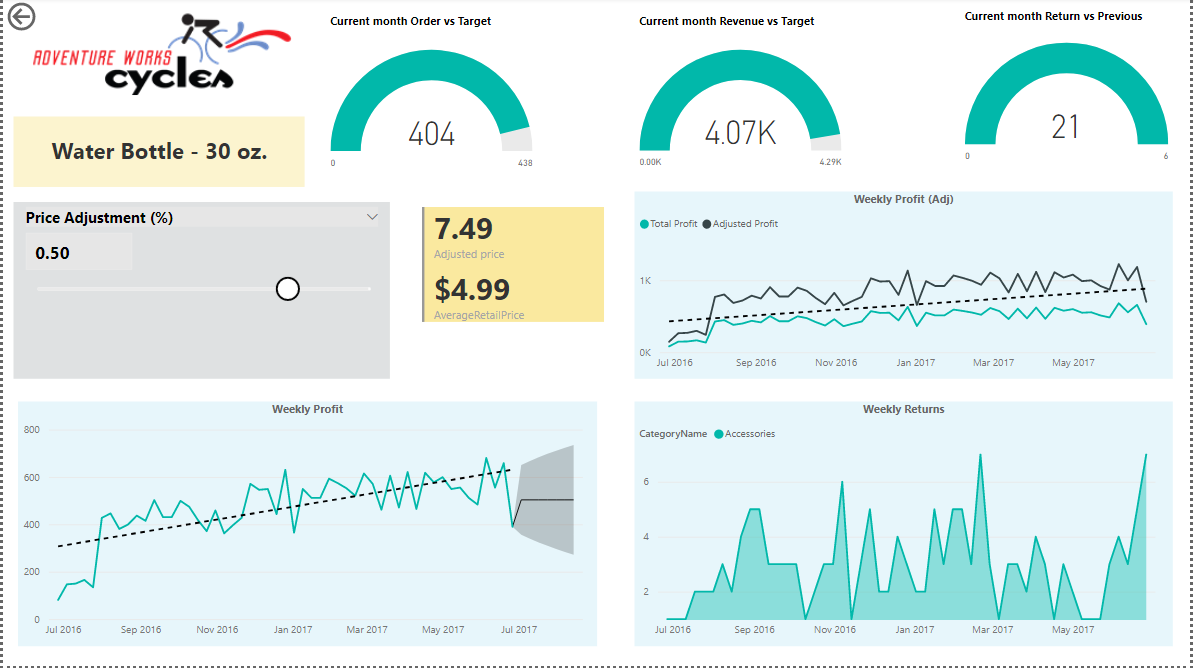

This screenshot's page, from the dashboard's own definition file:
{"tool":"powerbi","page":{"name":"Product detail","canvas":[1280,720],"ordinal":2},"visuals":[{"type":"image","box":[11.4,11.4,324.3,98.6],"z":0},{"type":"lineChart","title":"Weekly Profit","fields":{"Category":["AW_Calendar_Lookup.Start of Week"],"Y":["AW_SalesFiles.Total Profit"]},"box":[16.2,435.2,624.5,263.7],"z":1000},{"type":"stackedAreaChart","title":"Weekly Returns","fields":{"Category":["AW_Calendar_Lookup.Start of Week"],"Y":["AW_Returns.Total Returns"],"Series":["AW_Product_Categories_Lookup.CategoryName"]},"box":[681.2,435.2,580.9,263.7],"z":2000},{"type":"gauge","title":"Current month Order vs Target","fields":{"Y":["AW_SalesFiles.Total orders"],"MaxValue":["AW_SalesFiles.Order Target"]},"box":[348.6,15.7,228.6,192.9],"z":3000},{"type":"gauge","title":"Current month Revenue vs Target","fields":{"Y":["AW_SalesFiles.Total Revenue"],"MaxValue":["AW_SalesFiles.Target Revenue"]},"box":[681.2,16.2,228.1,192.5],"z":4000},{"type":"gauge","title":"Current month Return vs Previous","fields":{"Y":["AW_Returns.Total Returns"],"MaxValue":["AW_Returns.Prev Month Returns"]},"box":[1032.3,11.3,229.8,187.7],"z":5000},{"type":"card","fields":{"Values":["Min(AW_Products_Lookup.ProductName)"]},"box":[11.4,128.6,314.3,75.7],"z":6000},{"type":"actionButton","box":[0,0,100,40],"z":7000},{"type":"slicer","fields":{"Values":["Price Adjustment (%) 2.Price Adjustment (%)"]},"box":[11.3,220,406.1,190.9],"z":8000},{"type":"multiRowCard","fields":{"Values":["AW_Products_Lookup.Adjusted price","AW_Products_Lookup.AverageRetailPrice"]},"box":[446.6,220,207.1,147.2],"z":9000},{"type":"lineChart","title":"Weekly Profit (Adj)","fields":{"Category":["AW_Calendar_Lookup.Start of Week"],"Y":["AW_SalesFiles.Total Profit","AW_SalesFiles.Adjusted Profit"]},"box":[681.2,208.7,580.9,202.2],"z":10000}]}

Visuals, with their boxes in screenshot pixels (x1, y1, x2, y2), scaled from the page's 1280x720 canvas onto the 1194x670 screenshot:
image: <region>11, 11, 313, 102</region>
"Weekly Profit" lineChart: <region>15, 405, 598, 650</region>
"Weekly Returns" stackedAreaChart: <region>635, 405, 1177, 650</region>
"Current month Order vs Target" gauge: <region>325, 15, 538, 194</region>
"Current month Revenue vs Target" gauge: <region>635, 15, 848, 194</region>
"Current month Return vs Previous" gauge: <region>963, 11, 1177, 185</region>
card - Min(AW_Products_Lookup.ProductName): <region>11, 120, 304, 190</region>
actionButton: <region>0, 0, 93, 37</region>
slicer - Price Adjustment (%) 2.Price Adjustment (%): <region>11, 205, 389, 382</region>
multiRowCard - AW_Products_Lookup.Adjusted price x AW_Products_Lookup.AverageRetailPrice: <region>417, 205, 610, 342</region>
"Weekly Profit (Adj)" lineChart: <region>635, 194, 1177, 382</region>
